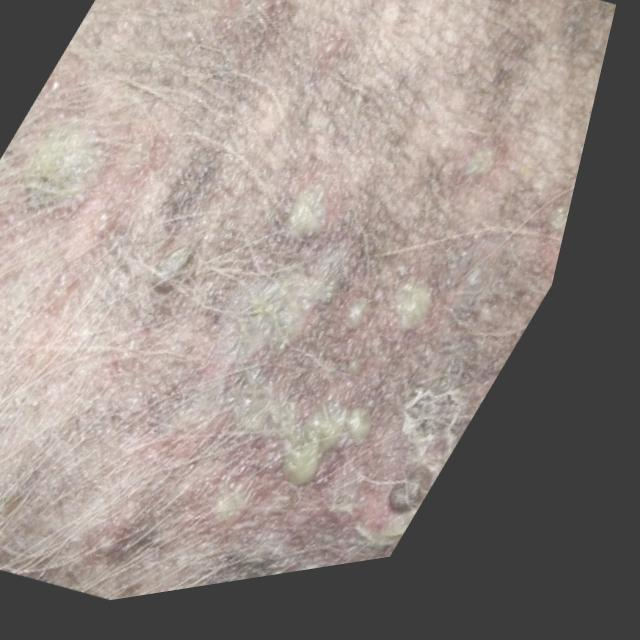viem da do vi khuan (cho): (0, 0, 610, 603)
